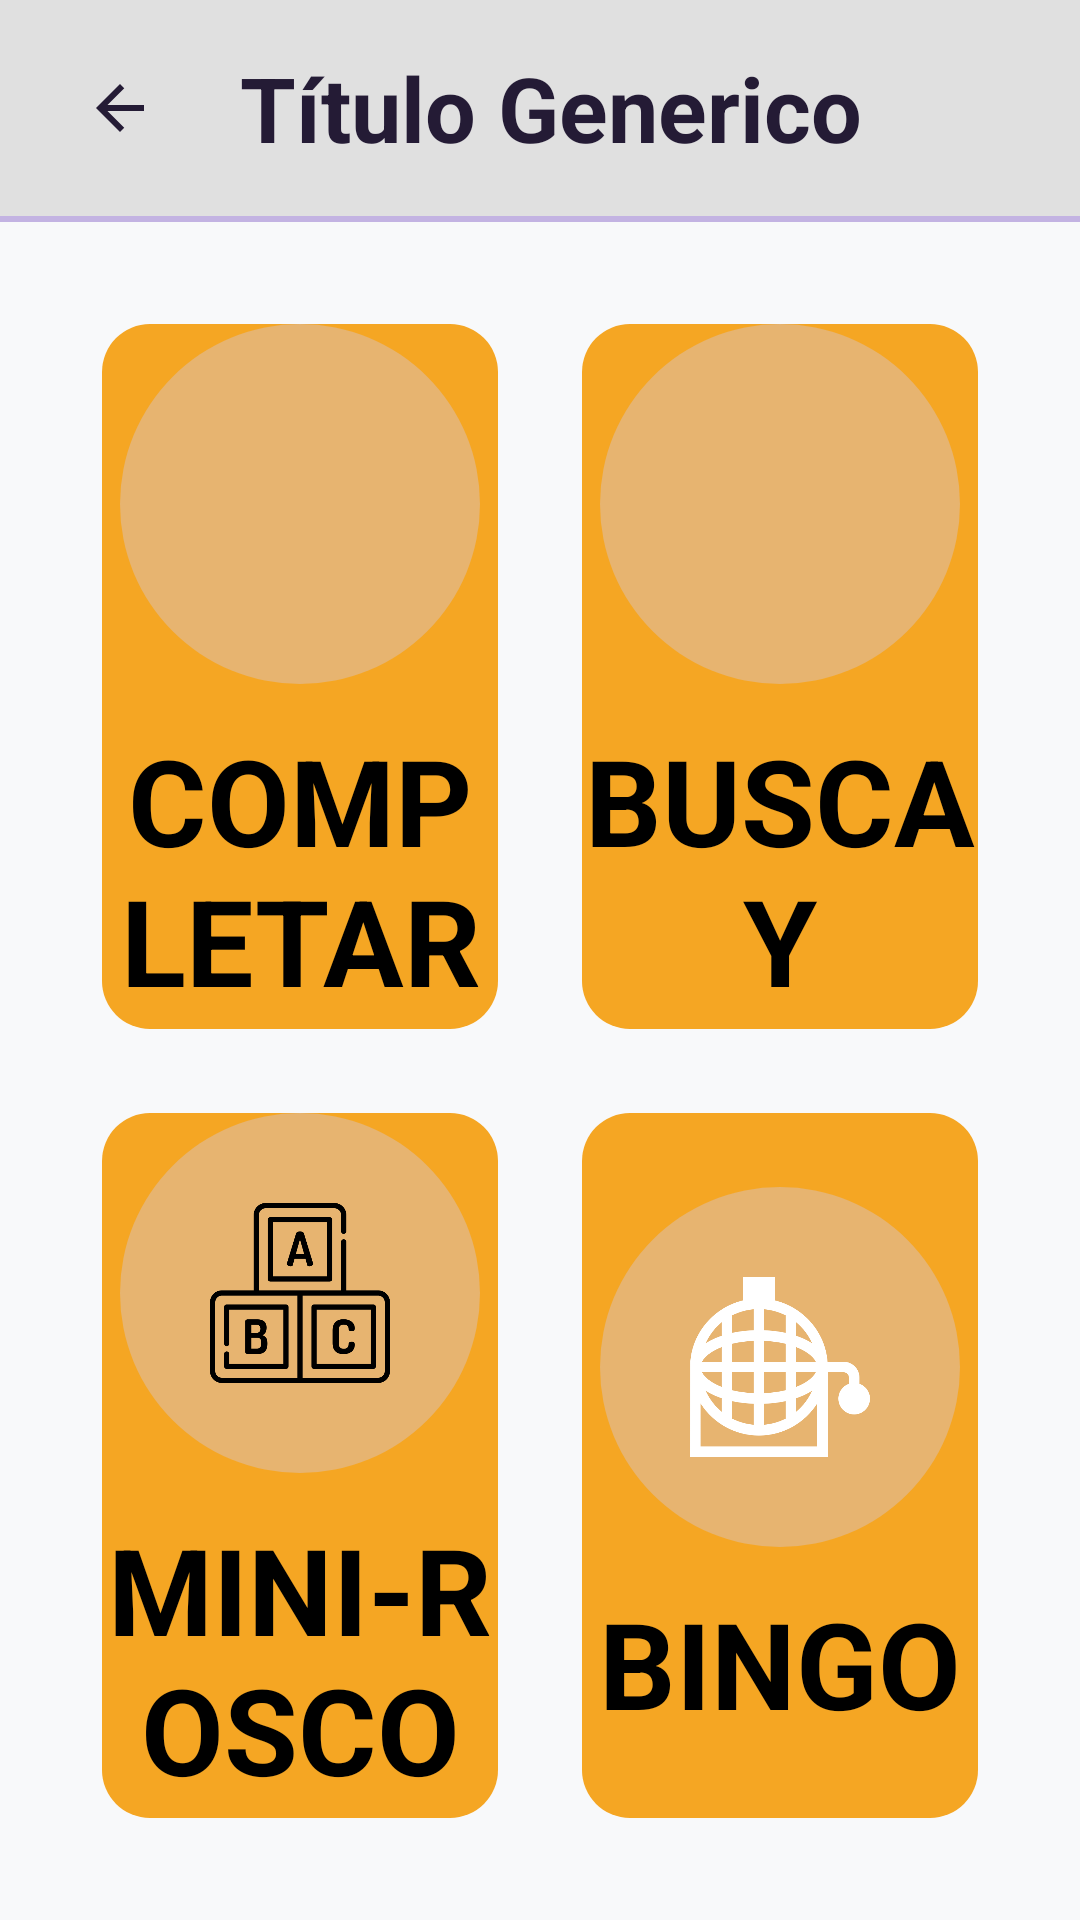

Named icons in this screenshot (1080px×1920px) and their centers, (x,y):
Atrás: (120,108)
